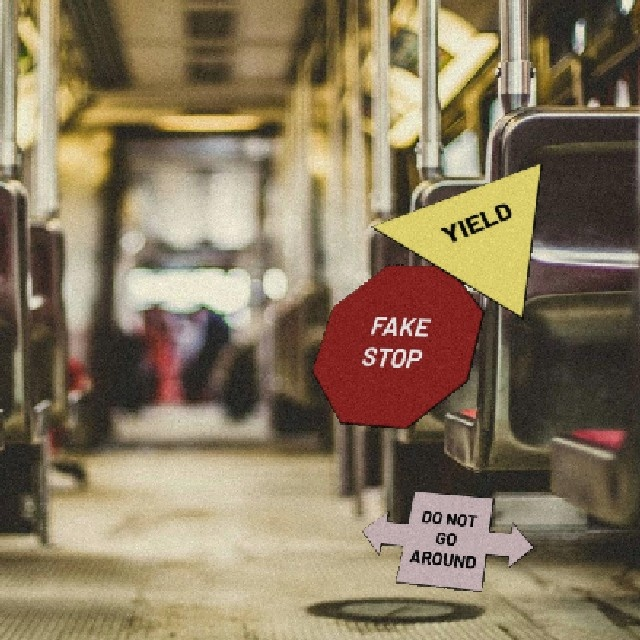DO_NOT_GO_AROUND: (360, 489, 533, 591)
FAKE_STOP: (310, 263, 483, 428)
YIELD: (368, 161, 541, 318)
